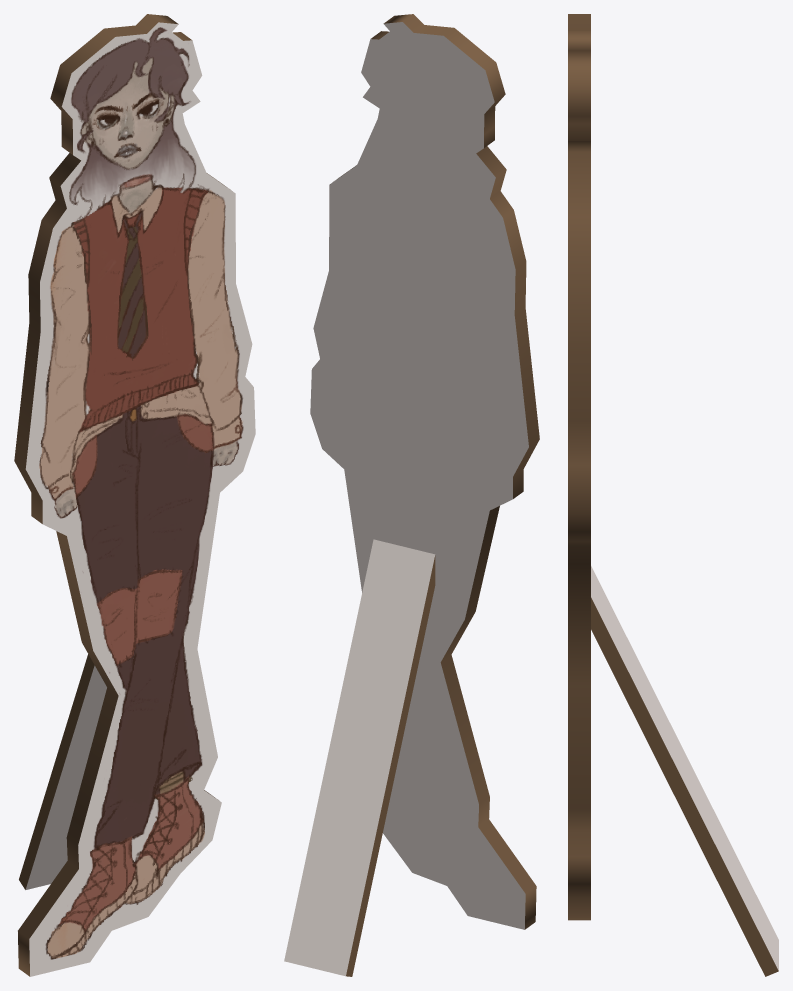
File: Olov_Angry.fbx
3 views of the same model, side by side, from view 1: azimuth 30°, elevation 25°; view 2: azimuth 150°, elevation 25°; view 3: azimuth 270°, elevation 25° (orthographic). The views are drawn at different scales.
Visible parts, largest first — view 1: Olov_Angry; view 2: Olov_Angry; view 3: Olov_Angry.
Part boxes in pixels (left/top/right/bottom): Olov_Angry: left=14, top=14, right=255, bottom=976; Olov_Angry: left=284, top=14, right=539, bottom=976; Olov_Angry: left=568, top=14, right=778, bottom=976.
Size of the model in its own units: 49.22 by 191 by 39.1.
1 material, 1 textured.
